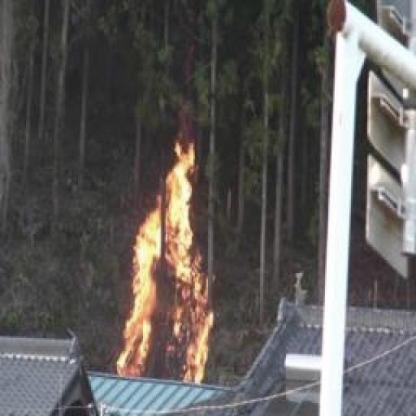fire: (110, 140, 218, 381)
